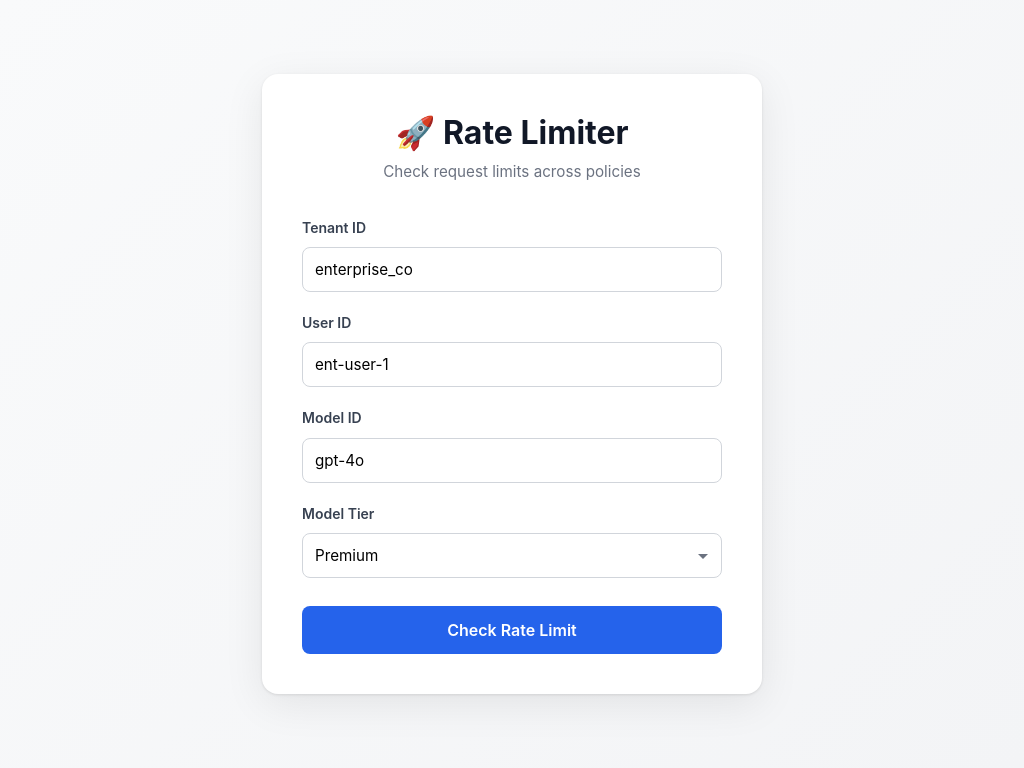
Test: Rate Limiter App › Blocked Response Display › should display blocked message when rejected
Click the button "Check Rate Limit" at {"x": 512, "y": 630}, box [302,606,722,654]
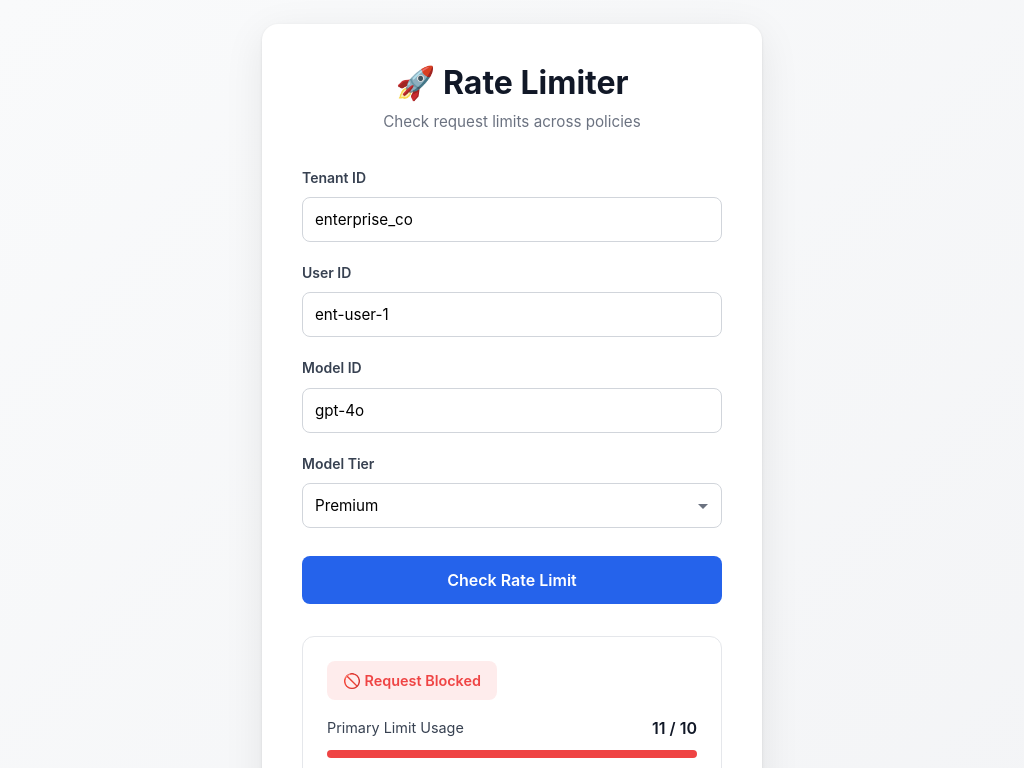
expect the text "🚫 Request Blocked" is shown: met, box [327,661,497,700]
